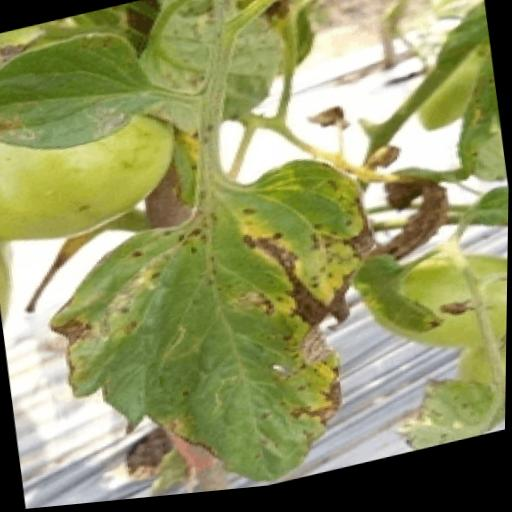Bacterial Spot: (20, 142, 408, 510), (0, 13, 163, 175)
